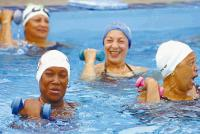swimmer: (14, 48, 74, 118), (141, 40, 200, 104), (82, 20, 144, 78), (0, 4, 63, 54)
